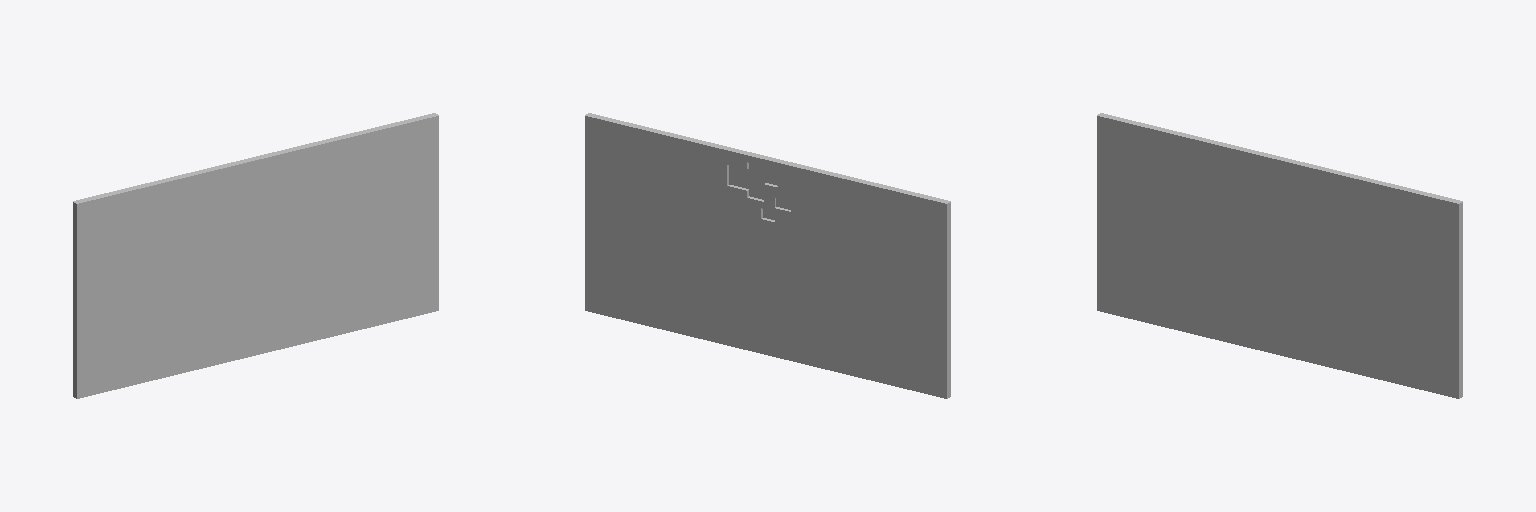
Rendered from House Interior Rooms - Free Sample-4.obj.
3 views of the same model, side by side, from view 1: azimuth 30°, elevation 25°; view 2: azimuth 150°, elevation 25°; view 3: azimuth 330°, elevation 25° (orthographic).
Parts seen in each view (by area): view 1: object 1; view 2: object 1; view 3: object 1.
Boxes of the visible parts, box(x1,y1,x2,y2) form: object 1: box(73, 113, 438, 398); object 1: box(585, 113, 950, 398); object 1: box(1097, 113, 1462, 398).
Bounding box in the file's own units: 2.14 × 1.1 × 0.04.